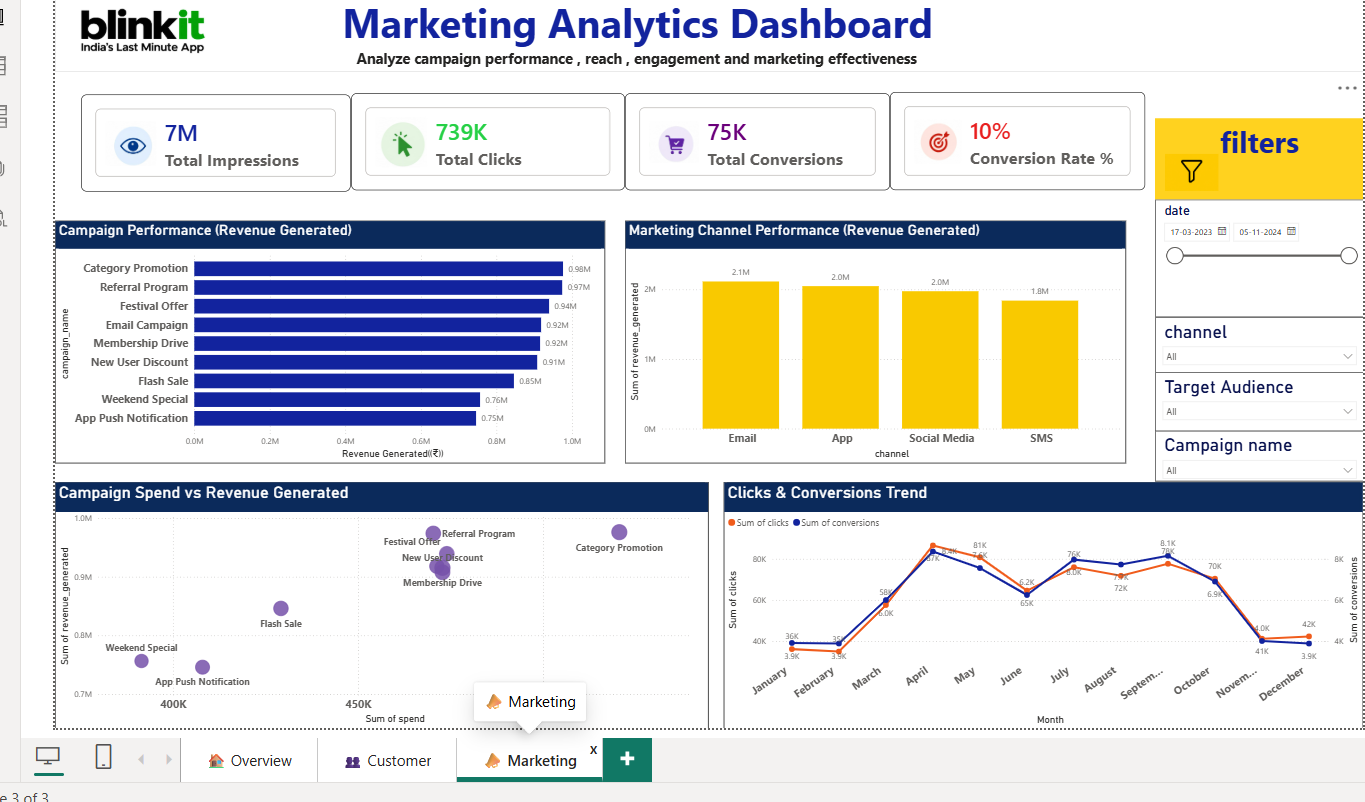

Layout of this report page (visuals, bound fields, positions):
{"tool":"powerbi","page":{"name":"📣   Marketing","canvas":[1920,1080],"ordinal":2},"visuals":[{"type":"clusteredBarChart","title":"Campaign Performance  (Revenue Generated)","fields":{"Category":["blinkit_marketing_performance.campaign_name"],"Y":["Sum(blinkit_marketing_performance.revenue_generated)"]},"box":[0,335.5,806.9,356.1],"z":0},{"type":"clusteredColumnChart","title":" Marketing Channel Performance  (Revenue Generated)","fields":{"Category":["blinkit_marketing_performance.channel"],"Y":["Sum(blinkit_marketing_performance.revenue_generated)"]},"box":[835.7,335.5,734.8,356.1],"z":1000},{"type":"scatterChart","title":"Campaign Spend vs Revenue Generated","fields":{"X":["Sum(blinkit_marketing_performance.spend)"],"Y":["Sum(blinkit_marketing_performance.revenue_generated)"],"Category":["blinkit_marketing_performance.campaign_name"],"Size":["Sum(blinkit_marketing_performance.conversions)"]},"box":[0,718.4,959.2,362.3],"z":2000},{"type":"lineChart","title":"Clicks & Conversions Trend","fields":{"Y":["Sum(blinkit_marketing_performance.clicks)"],"Category":["blinkit_marketing_performance.date.Variation.Date Hierarchy.Month"],"Y2":["Sum(blinkit_marketing_performance.conversions)"]},"box":[981.8,718.4,938.6,362.3],"z":3000},{"type":"textbox","box":[0,0,1920.4,117.3],"z":4000},{"type":"cardVisual","fields":{"Data":["measures (2).Total Impressions"]},"box":[39.1,150.3,395.2,142],"z":5000},{"type":"cardVisual","fields":{"Data":["measures (2).Total Clicks"]},"box":[434.3,148.2,401.4,142],"z":6000},{"type":"cardVisual","fields":{"Data":["measures (2).Total Conversions"]},"box":[835.7,148.2,389,142],"z":7000},{"type":"cardVisual","fields":{"Data":["measures (2).Conversion Rate %"]},"box":[1224.7,146.1,374.6,144.1],"z":8000},{"type":"textbox","box":[1613.7,185.2,306.7,119.4],"z":9000},{"type":"image","box":[1628.1,226.4,78.2,78.2],"z":10000},{"type":"slicer","fields":{"Values":["blinkit_marketing_performance.date"]},"box":[1613.7,304.6,306.7,172.9],"z":11000},{"type":"slicer","fields":{"Values":["blinkit_marketing_performance.channel"]},"box":[1613.7,477.5,306.7,94.7],"z":12000},{"type":"slicer","fields":{"Values":["blinkit_marketing_performance.target_audience"]},"box":[1613.7,557.8,306.7,88.5],"z":13000},{"type":"slicer","fields":{"Values":["blinkit_marketing_performance.campaign_name"]},"box":[1613.7,644.3,306.7,74.1],"z":14000},{"type":"image","box":[0,12.8,258.6,84.4],"z":15000}]}

Visuals, with their boxes on the page's 1920x1080 design canvas (x1, y1, x2, y2). These are canvas units, not pixel positions in the 1365x802 screenshot, which may show the page scaled, cropped or inside an application window:
"Campaign Performance  (Revenue Generated)" clusteredBarChart: 0 336 807 692
" Marketing Channel Performance  (Revenue Generated)" clusteredColumnChart: 836 336 1570 692
"Campaign Spend vs Revenue Generated" scatterChart: 0 718 959 1081
"Clicks & Conversions Trend" lineChart: 982 718 1920 1081
textbox: 0 0 1920 117
cardVisual - measures (2).Total Impressions: 39 150 434 292
cardVisual - measures (2).Total Clicks: 434 148 836 290
cardVisual - measures (2).Total Conversions: 836 148 1225 290
cardVisual - measures (2).Conversion Rate %: 1225 146 1599 290
textbox: 1614 185 1920 305
image: 1628 226 1706 305
slicer - blinkit_marketing_performance.date: 1614 305 1920 478
slicer - blinkit_marketing_performance.channel: 1614 478 1920 572
slicer - blinkit_marketing_performance.target_audience: 1614 558 1920 646
slicer - blinkit_marketing_performance.campaign_name: 1614 644 1920 718
image: 0 13 259 97
